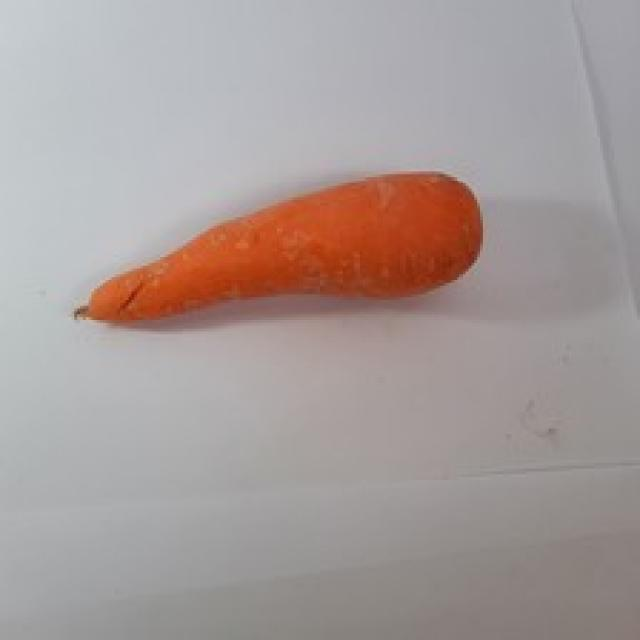carrot: (90, 174, 481, 325)
